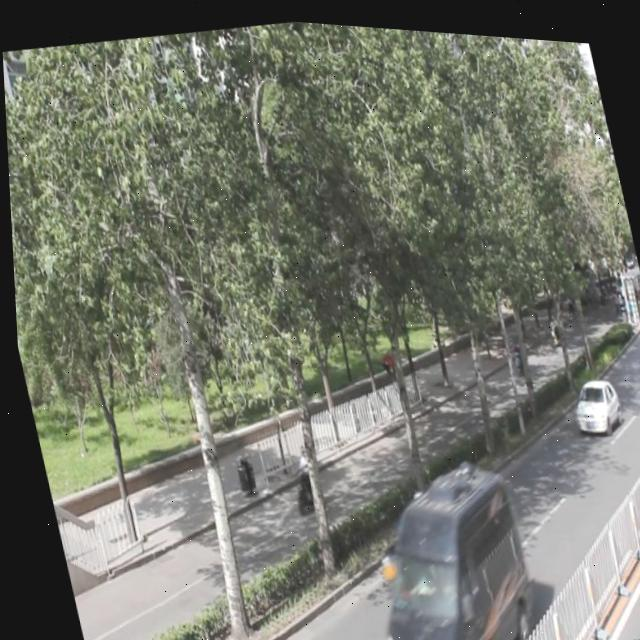car: (561, 363, 621, 429)
truck: (338, 443, 536, 640)
